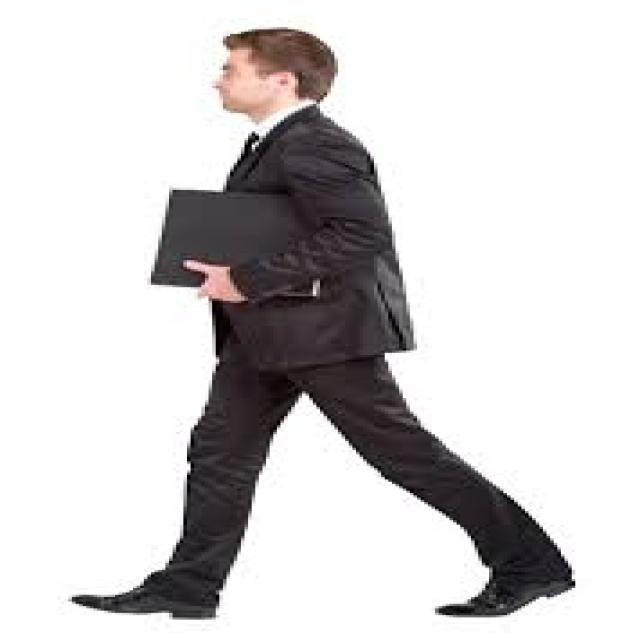nonfall: (81, 13, 582, 617)
